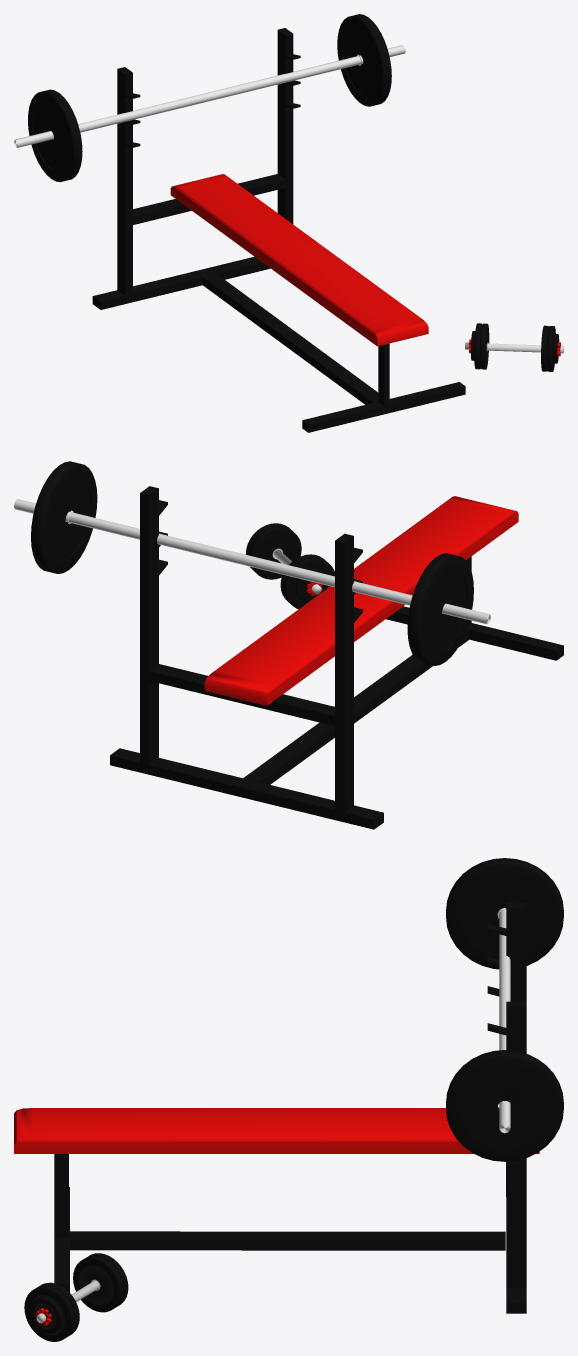
Rendered from SetDeEntrenamiento.fbx.
3 renders of one model, top to bottom at view 1: azimuth 30°, elevation 25°; view 2: azimuth 150°, elevation 25°; view 3: azimuth 270°, elevation 25°, orthographic. The views are drawn at different scales.
Parts seen in each view (by area): view 1: CañosBanco, RespaldoBanco, DiscoGrande1, DiscoGrande2, BarraOlimpica; view 2: CañosBanco, RespaldoBanco, DiscoGrande1, DiscoGrande2, BarraOlimpica, DiscoPequeño2, DiscoPequeño4; view 3: RespaldoBanco, CañosBanco, DiscoGrande2, DiscoGrande1, DiscoPequeño1, BarraOlimpica, DiscoPequeño3, DiscoPequeño6.
Boxes of the visible parts, x1,y1,x2,y2 form: CañosBanco: (92, 28, 465, 432); RespaldoBanco: (170, 174, 428, 346); DiscoGrande1: (28, 89, 82, 182); DiscoGrande2: (337, 14, 391, 106); BarraOlimpica: (14, 45, 405, 147); CañosBanco: (110, 486, 563, 829); RespaldoBanco: (204, 496, 518, 705); DiscoGrande1: (407, 553, 473, 665); DiscoGrande2: (31, 461, 97, 573); BarraOlimpica: (14, 499, 490, 624); DiscoPequeño2: (249, 526, 301, 579); DiscoPequeño4: (283, 557, 334, 609); RespaldoBanco: (14, 1108, 539, 1153); CañosBanco: (54, 902, 526, 1313); DiscoGrande2: (446, 1050, 563, 1161); DiscoGrande1: (446, 858, 563, 969); DiscoPequeño1: (73, 1255, 124, 1312); BarraOlimpica: (497, 908, 510, 1133); DiscoPequeño3: (24, 1285, 75, 1341); DiscoPequeño6: (30, 1297, 62, 1333).
Size of the model in its own units: 92.15 by 52.17 by 89.15.
